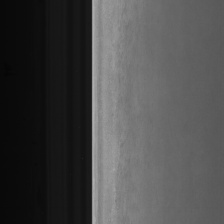silk_spot: (109, 33, 136, 144)
